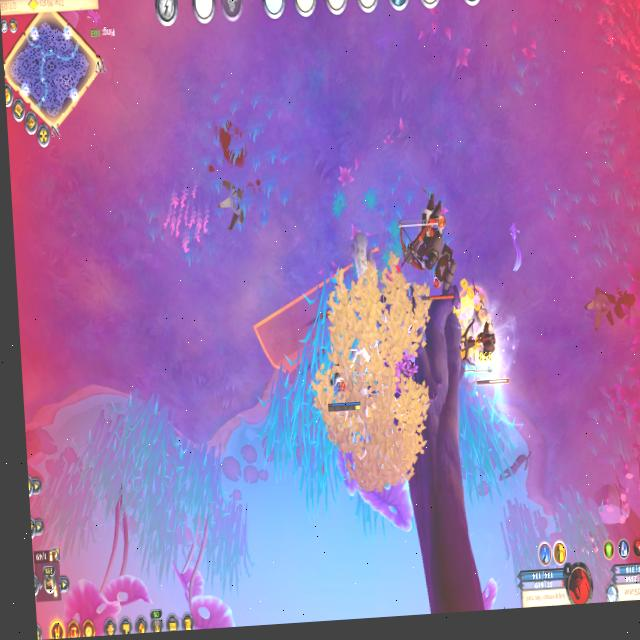ore: (393, 179, 461, 308), (457, 274, 509, 391)
red: (322, 364, 367, 421)
silver: (247, 234, 404, 396)
wisp caged: (302, 201, 441, 507)
